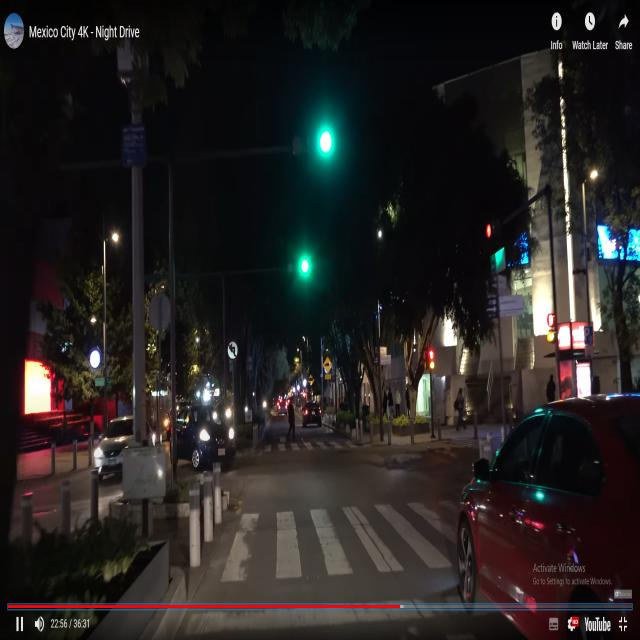headlights: (190, 423, 243, 451)
